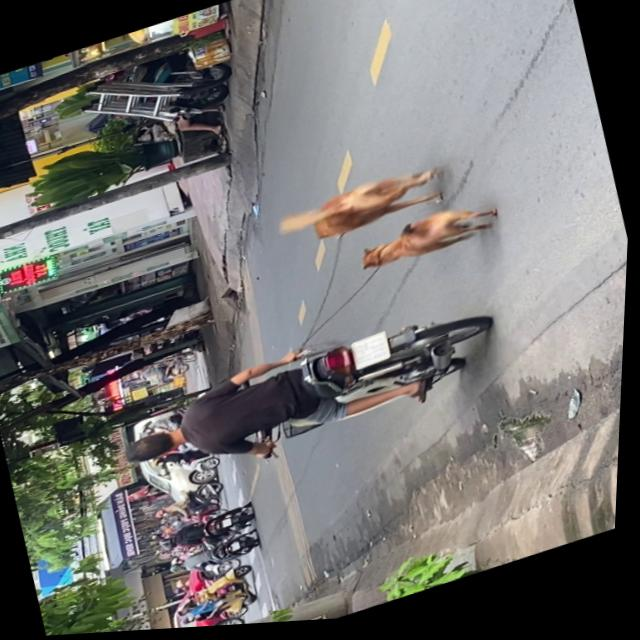licenseplate: (111, 291, 508, 501)
motorcyclist: (123, 423, 189, 470)
nohelmet: (351, 335, 393, 372)
